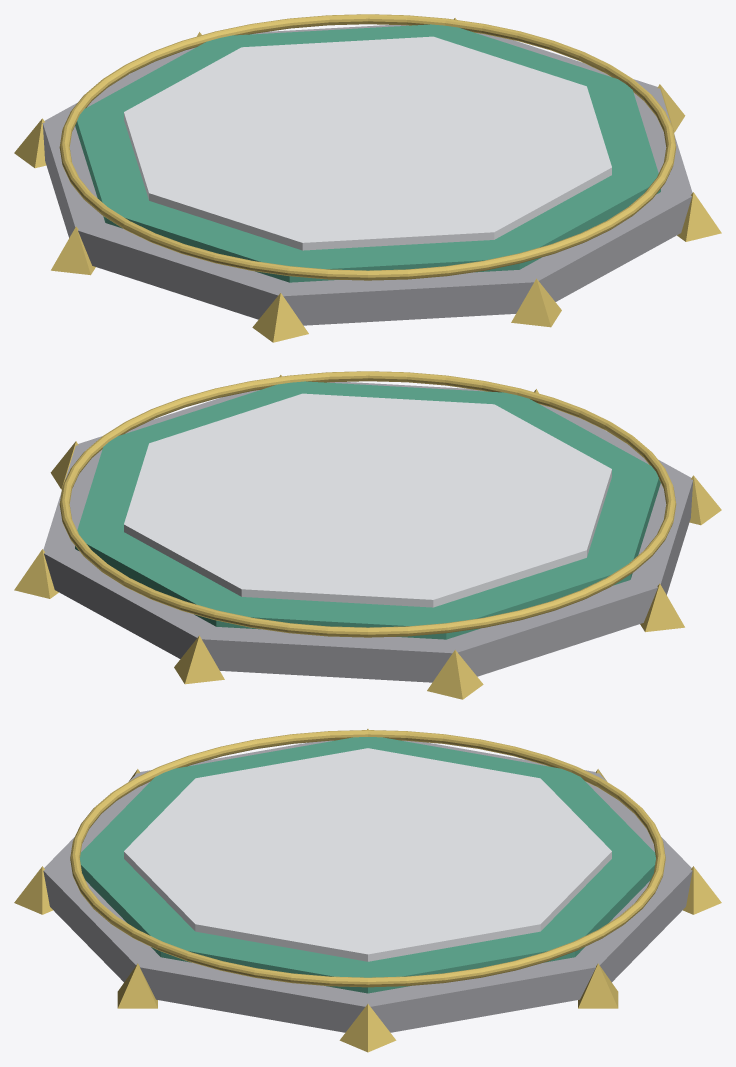
File: Prop_MeditationPlatform.fbx
3 renders of one model, top to bottom at view 1: azimuth 30°, elevation 25°; view 2: azimuth 150°, elevation 25°; view 3: azimuth 270°, elevation 25°, orthographic. The views are drawn at different scales.
Parts seen in each view (by area): view 1: MeditationPlatform; view 2: MeditationPlatform; view 3: MeditationPlatform.
Part boxes in pixels (<box>): MeditationPlatform: <box>14,14,721,342</box>; MeditationPlatform: <box>14,371,721,699</box>; MeditationPlatform: <box>14,729,721,1052</box>.
Size of the model in its own units: 870 by 70 by 870.
